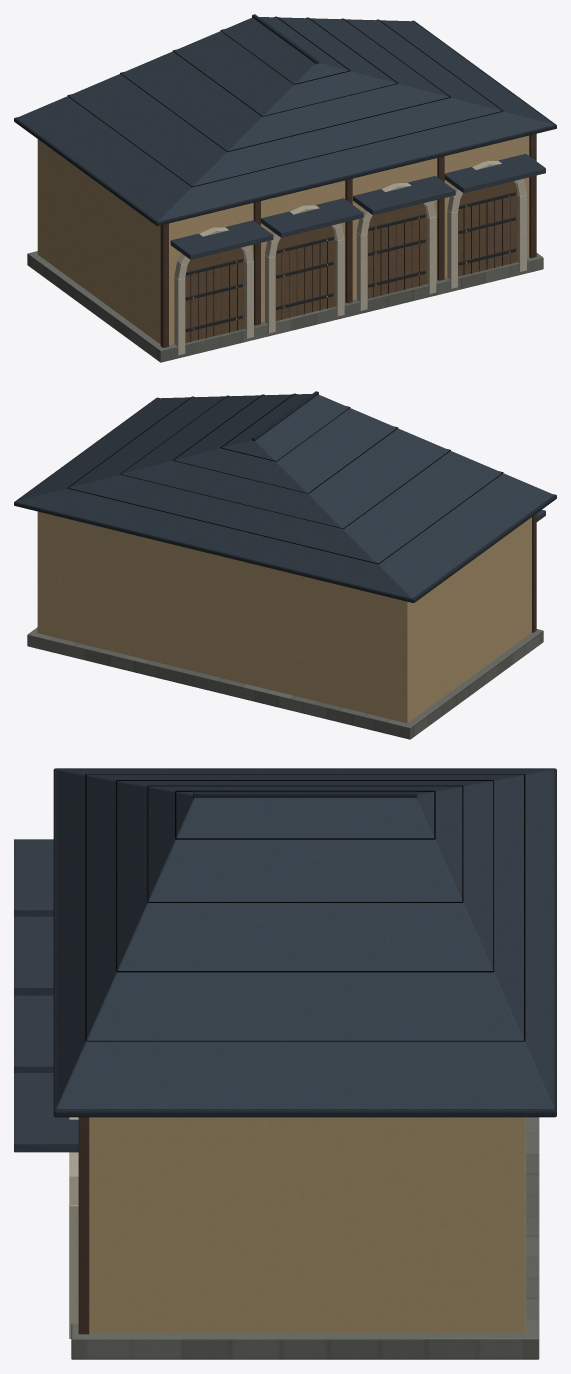
Rendered from Stable.fbx.
3 renders of one model, top to bottom at view 1: azimuth 30°, elevation 25°; view 2: azimuth 150°, elevation 25°; view 3: azimuth 270°, elevation 25°, orthographic. The views are drawn at different scales.
Parts seen in each view (by area): view 1: Stable.001; view 2: Stable.001; view 3: Stable.001.
Boxes of the visible parts, x1=… form: Stable.001: x1=14, y1=14, x2=556, y2=362; Stable.001: x1=14, y1=391, x2=556, y2=739; Stable.001: x1=14, y1=768, x2=556, y2=1359.
Bounding box in the file's own units: 15.26 × 8.36 × 10.2.
